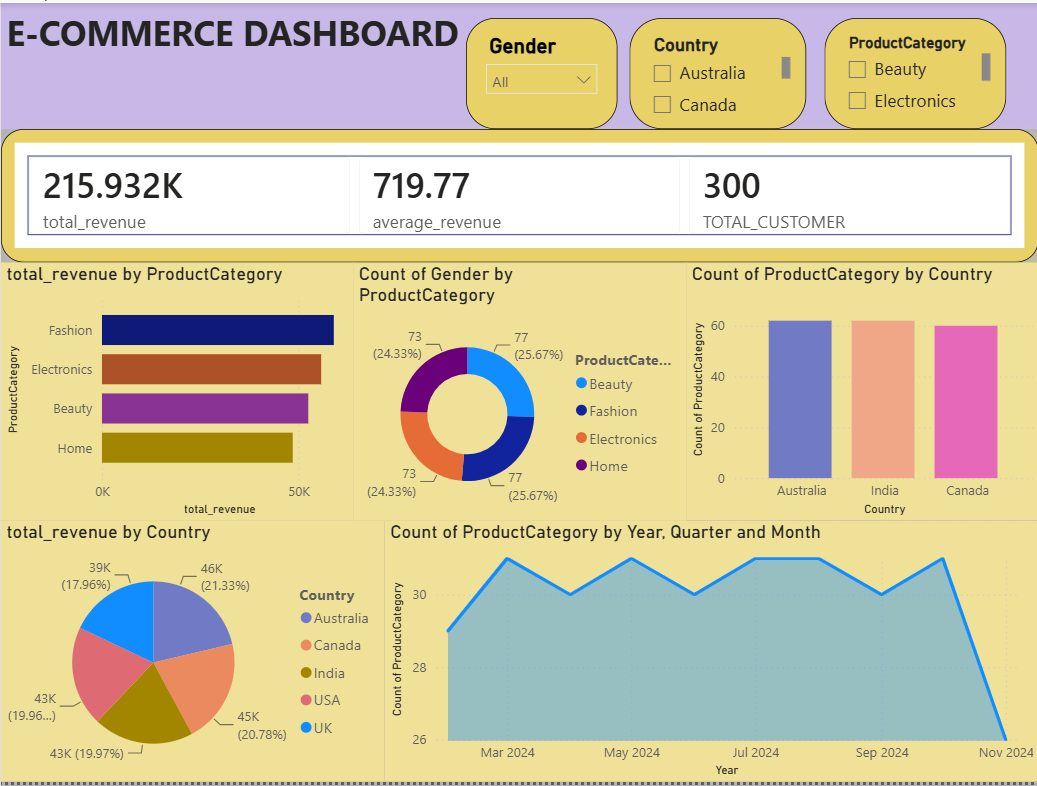

The dashboard page shown, as its layout file describes it:
{"tool":"powerbi","page":{"name":"Page 1","canvas":[960,720],"ordinal":0},"visuals":[{"type":"textbox","box":[0,0,1279.9,116.5],"z":0},{"type":"slicer","fields":{"Values":["ecommerce.Gender"]},"box":[429.9,13.9,140,102.6],"z":1000},{"type":"slicer","fields":{"Values":["ecommerce.Country"]},"box":[581,13.9,163.6,102.6],"z":2000},{"type":"slicer","fields":{"Values":["ecommerce.ProductCategory"]},"box":[761.3,13.9,167.8,102.6],"z":3000},{"type":"cardVisual","fields":{"Data":["ecommerce.total_revenue","ecommerce.average_revenue","ecommerce.TOTAL_CUSTOMER"]},"box":[0,116.5,959.5,123.4],"z":4000},{"type":"barChart","fields":{"Y":["ecommerce.total_revenue"],"Category":["ecommerce.ProductCategory"]},"box":[0,239.9,325.9,238.5],"z":5000},{"type":"pieChart","fields":{"Category":["ecommerce.Country"],"Y":["ecommerce.total_revenue"]},"box":[0,478.4,355,241.3],"z":6000},{"type":"donutChart","fields":{"Y":["CountNonNull(ecommerce.Gender)"],"Category":["ecommerce.ProductCategory"]},"box":[325.9,239.9,307.8,238.5],"z":7000},{"type":"stackedAreaChart","fields":{"Y":["CountNonNull(ecommerce.ProductCategory)"],"Category":["ecommerce.PurchaseDate.Variation.Date Hierarchy.Year","ecommerce.PurchaseDate.Variation.Date Hierarchy.Quarter","ecommerce.PurchaseDate.Variation.Date Hierarchy.Month"]},"box":[355,478.4,604.6,241.3],"z":8000},{"type":"clusteredColumnChart","fields":{"Category":["ecommerce.Country"],"Y":["CountNonNull(ecommerce.ProductCategory)"]},"box":[634,240,326,238],"z":9000}]}

Visuals, with their boxes in screenshot pixels (x1, y1, x2, y2), scaled from the page's 960x720 canvas onto the 1037x786 screenshot:
textbox: pyautogui.locateOnScreen(0, 0, 1036, 127)
slicer - ecommerce.Gender: pyautogui.locateOnScreen(464, 15, 616, 127)
slicer - ecommerce.Country: pyautogui.locateOnScreen(628, 15, 804, 127)
slicer - ecommerce.ProductCategory: pyautogui.locateOnScreen(822, 15, 1004, 127)
cardVisual - ecommerce.total_revenue x ecommerce.average_revenue: pyautogui.locateOnScreen(0, 127, 1036, 262)
barChart - ecommerce.total_revenue x ecommerce.ProductCategory: pyautogui.locateOnScreen(0, 262, 352, 522)
pieChart - ecommerce.Country x ecommerce.total_revenue: pyautogui.locateOnScreen(0, 522, 383, 785)
donutChart - CountNonNull(ecommerce.Gender) x ecommerce.ProductCategory: pyautogui.locateOnScreen(352, 262, 685, 522)
stackedAreaChart - CountNonNull(ecommerce.ProductCategory) x ecommerce.PurchaseDate.Variation.Date Hierarchy.Year: pyautogui.locateOnScreen(383, 522, 1036, 785)
clusteredColumnChart - ecommerce.Country x CountNonNull(ecommerce.ProductCategory): pyautogui.locateOnScreen(685, 262, 1036, 522)
